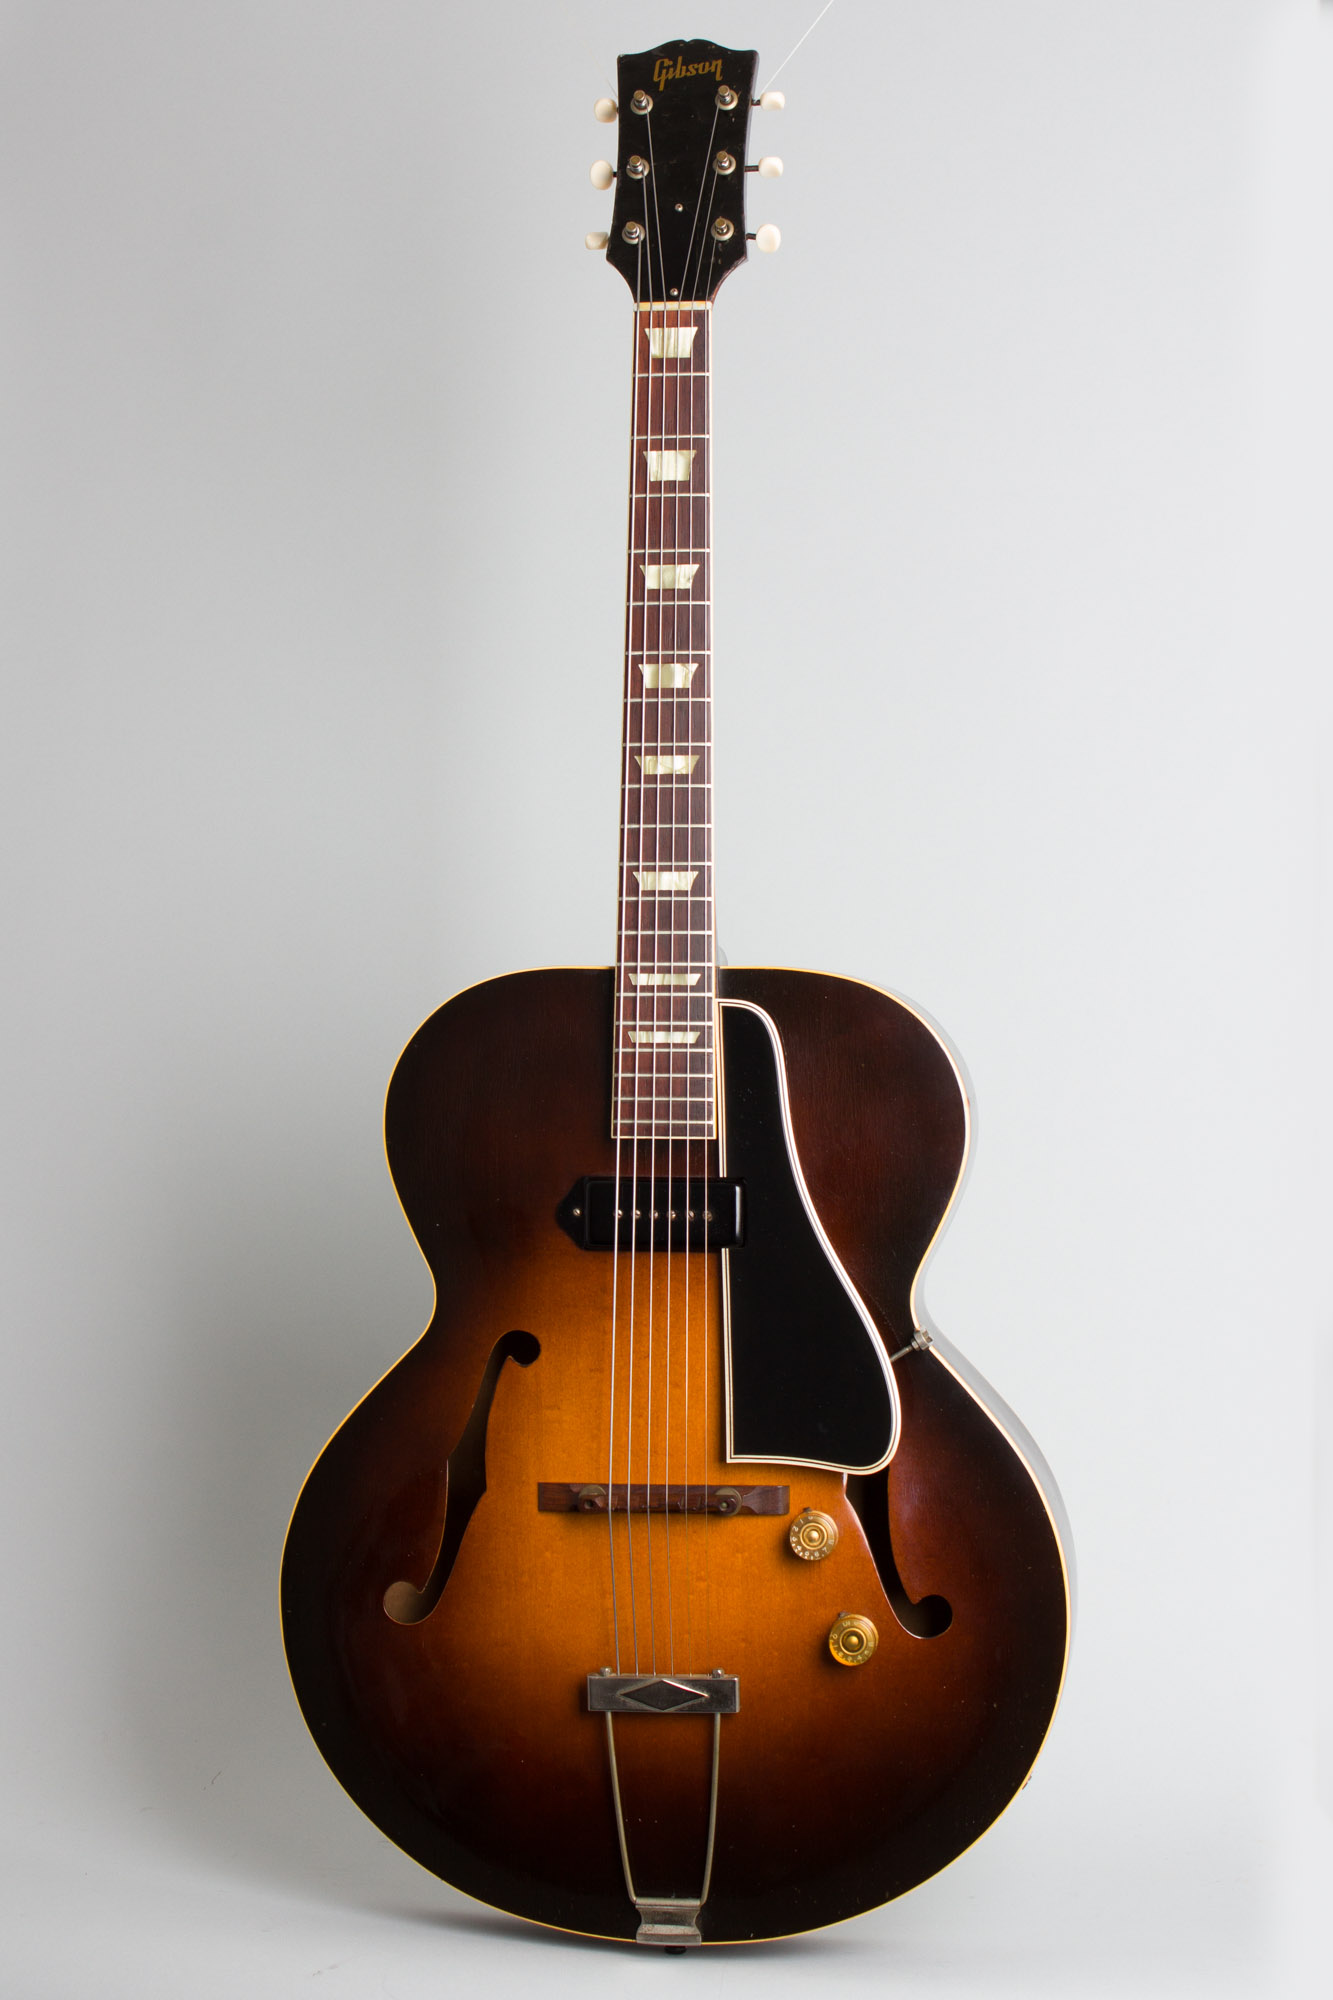guitar: (271, 0, 1064, 1969), (272, 955, 1073, 1955)
